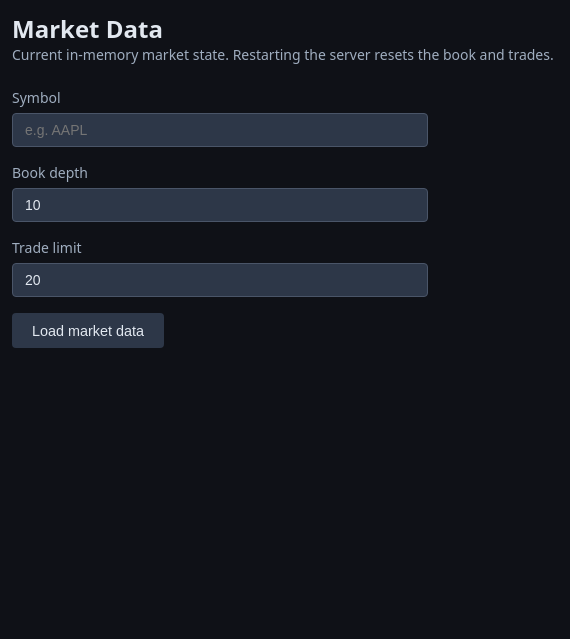
Test: MarketView – success state › formats integer cents as decimal money with two decimal places
Type "AAPL" into the field labelled "Symbol". click: coordinates (220, 130)
box: x1=12 y1=113 x2=428 y2=147
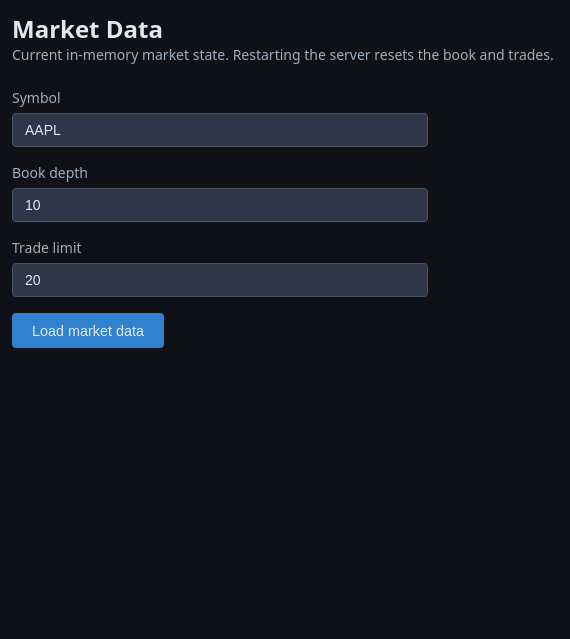
Click the button. click: coordinates (88, 331)
box: x1=12 y1=313 x2=164 y2=348
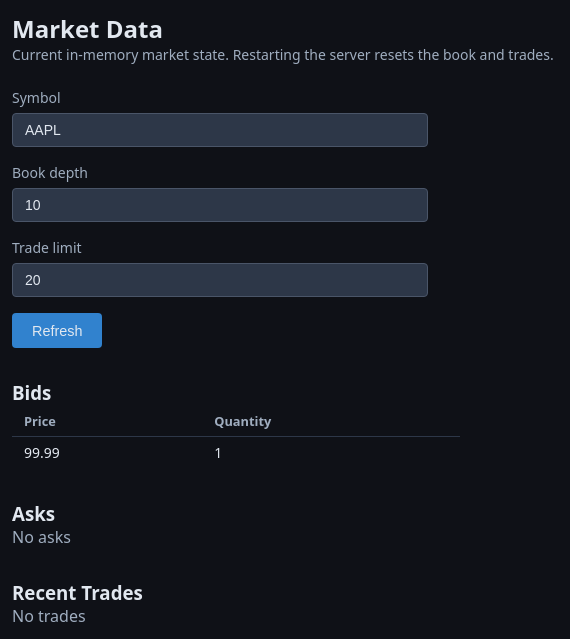
Expected: the text "99.99" is shown, x1=12 y1=436 x2=202 y2=469
